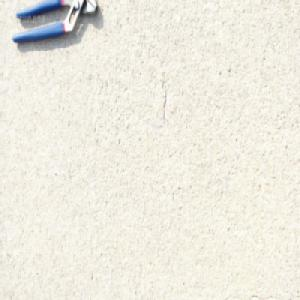Pliers: (11, 0, 99, 44)
